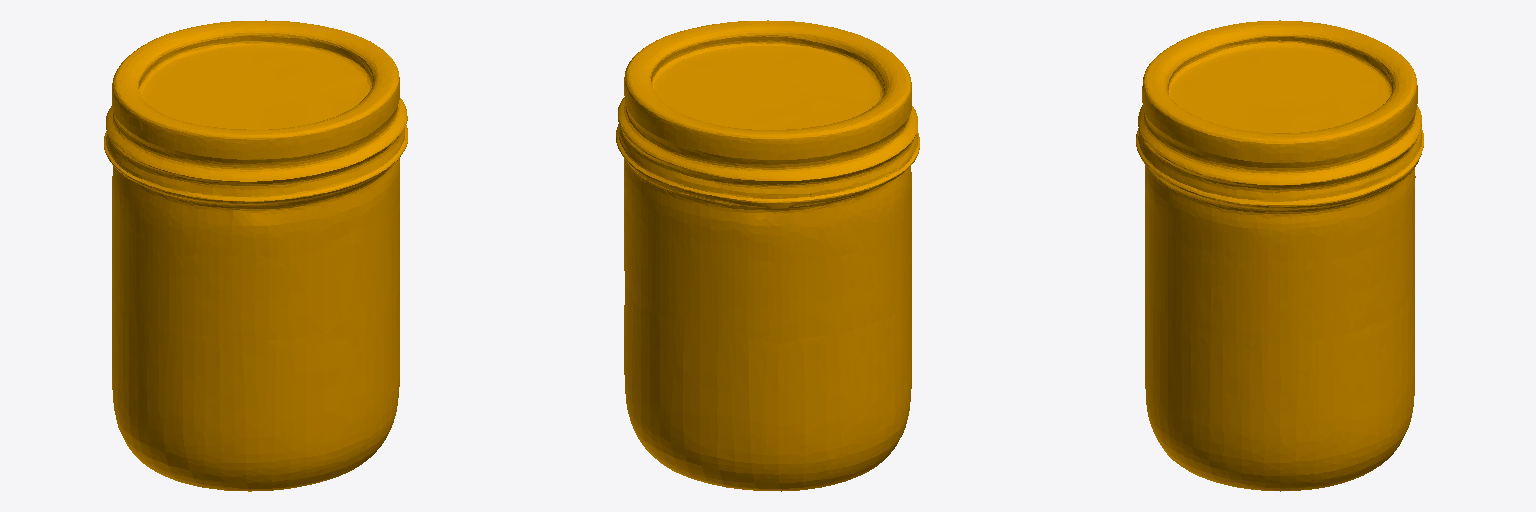
The robot description file, URDF, robot "sample":
<?xml version="1.0" ?>
<robot name="sample">
   <link name="sample">
      <visual>
         <origin xyz="0 0 0" rpy="1.5708 0.0 0.0"/>
         <geometry>
            <mesh filename="mesh/sample.obj" scale="1.0 1.0 1.0"/>
         </geometry>
      </visual>
      <collision>
         <origin xyz="0 0 0" rpy="1.5708 0.0 0.0"/>
         <geometry>
            <mesh filename="mesh/sample_collision.obj" scale="1.0 1.0 1.0"/>
         </geometry>
         <gazebo>
            <mu1>0.60</mu1>
            <mu2>0.50</mu2>
         </gazebo>
      </collision>
      <inertial>
         <mass value="0.5000"/>
         <origin xyz="0 0 0"/>
         <inertia ixx="1.0" ixy="0.0" ixz="0.0" iyy="1.0" iyz="0.0" izz="1.0"/>
      </inertial>
      <extra_info>
         <scale>0.135000</scale>
         <version>v0.1.7</version>
         <category>canned food</category>
         <description>glass jar with yellow contents and gold lid</description>
         <min_height>0.12</min_height>
         <max_height>0.15</max_height>
         <real_height>0.135</real_height>
         <min_mass>0.4</min_mass>
         <max_mass>0.6</max_mass>
         <color>yellow</color>
         <rgba>[1.0, 0.9, 0.0, 1.0]</rgba>
         <generate_time>20260615172020</generate_time>
         <gs_model>mesh/sample_gs.ply</gs_model>
      </extra_info>
   </link>
   <custom_data>
      <quality>
         <MeshGeoChecker>YES</MeshGeoChecker>
         <ImageSegChecker>NO. Object is not centered, background is distorted, and segmentation is incomplete.</ImageSegChecker>
         <ImageAestheticChecker>4.8476996421813965</ImageAestheticChecker>
         <overall>NO</overall>
      </quality>
   </custom_data>
</robot>

--- Render facts (derived) ---
3 views of the same robot in one strip: view 1: azimuth 30°, elevation 25°; view 2: azimuth 150°, elevation 25°; view 3: azimuth 270°, elevation 25° (orthographic).
Robot: sample — 1 links, 0 joints (none); root link sample; default pose: all joints at 0.
Links seen in each view (by area): view 1: sample; view 2: sample; view 3: sample.
Boxes of the visible links, x1,y1,x2,y2 form: sample: [104, 20, 407, 491]; sample: [616, 20, 919, 491]; sample: [1136, 20, 1423, 491].
Size in the robot's own frame: 0.1041 by 0.0979 by 0.135 metres.
Meshes: 1 distinct files referenced, 1 mesh visuals loaded (1 OBJ).
